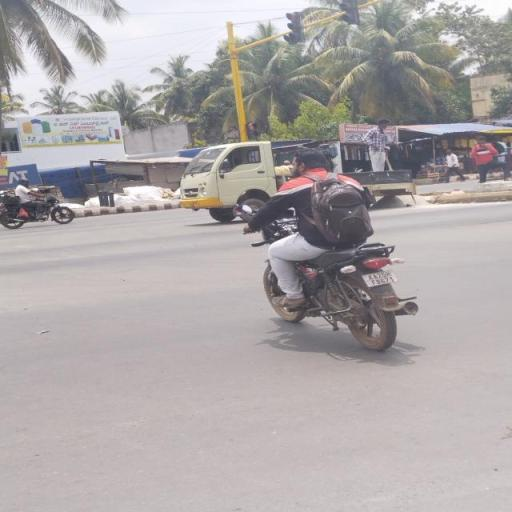bike: (234, 141, 423, 353)
numberplate: (362, 263, 400, 290)
withouthelmet: (292, 148, 330, 176)
